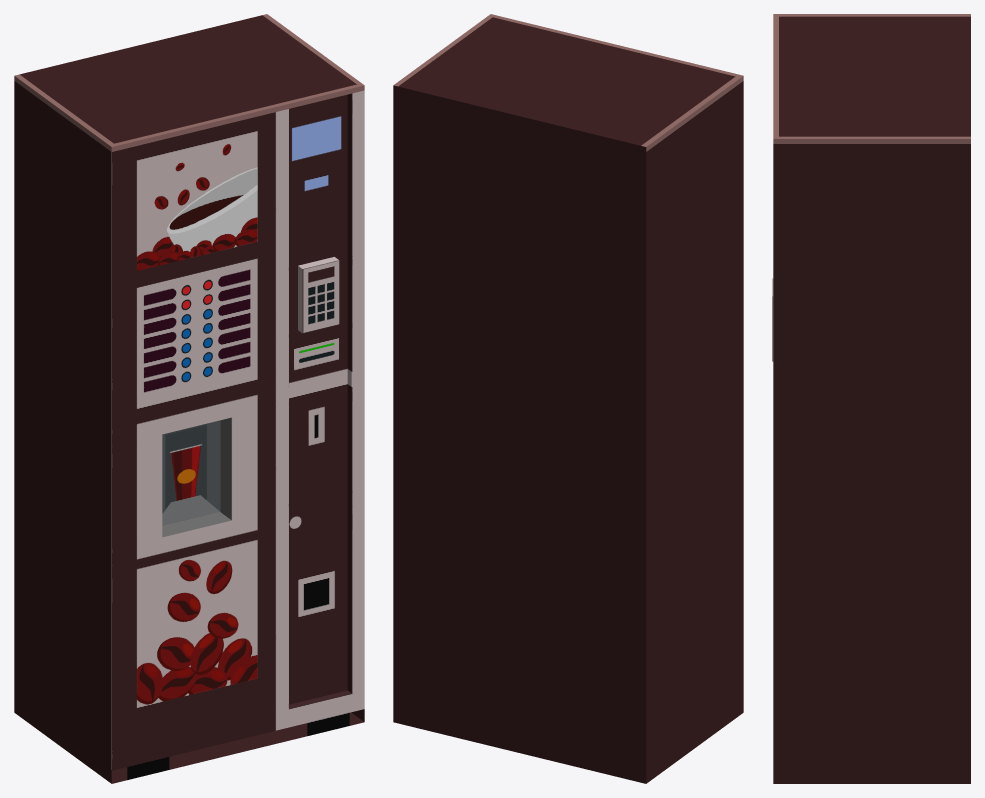
The model's file is CoffeMachine.fbx.
The picture shows the model from 3 angles, left to right: view 1: azimuth 30°, elevation 25°; view 2: azimuth 150°, elevation 25°; view 3: azimuth 270°, elevation 25°; orthographic projection.
Parts seen in each view (by area): view 1: Cube.002; view 2: Cube.002; view 3: Cube.002.
Boxes of the visible parts, <box> form: Cube.002: <box>14,14,364,783</box>; Cube.002: <box>393,14,743,783</box>; Cube.002: <box>772,14,970,783</box>.
Bounding box in the file's own units: 207 × 497 × 139.
3 materials, 1 textured.
